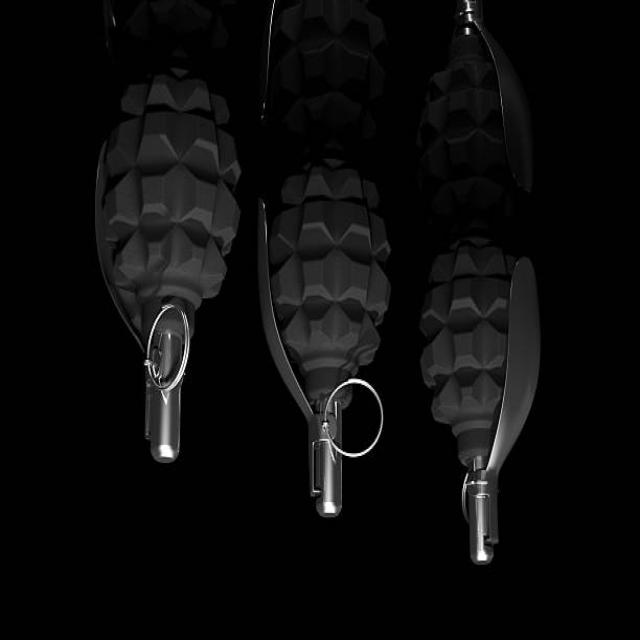grenade: (84, 54, 253, 476)
